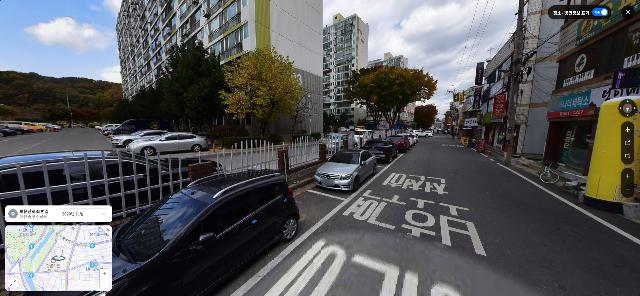ginkgo: (216, 45, 301, 147)
other: (115, 35, 226, 137), (342, 63, 438, 138), (289, 82, 317, 141), (412, 103, 438, 132)
